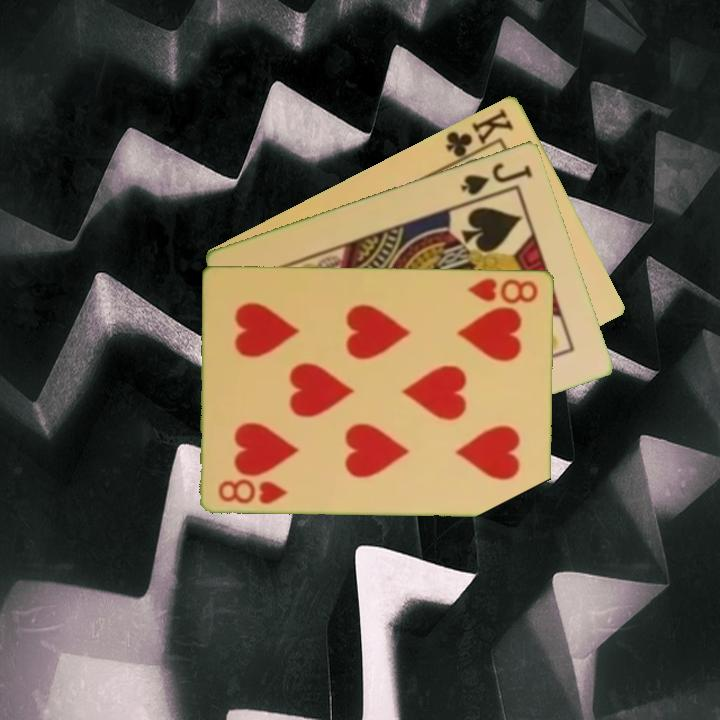8h: (215, 474, 291, 507), (464, 275, 542, 306)
Js: (457, 158, 536, 198)
Kc: (442, 104, 517, 167)
